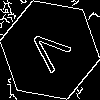V: (25, 25, 79, 80)
